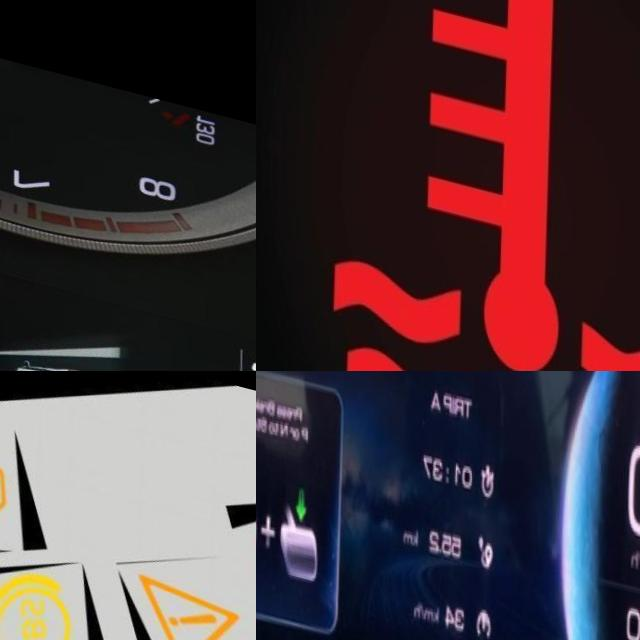Engine cooling system: (334, 0, 640, 371)
